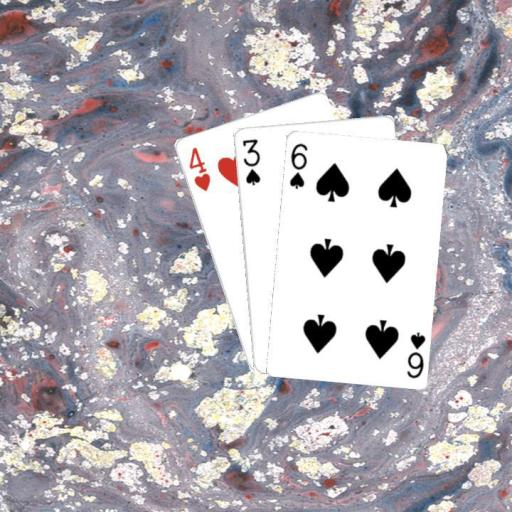3S: (239, 135, 262, 186)
4H: (185, 144, 212, 193)
6S: (403, 329, 427, 379), (286, 140, 309, 191)
